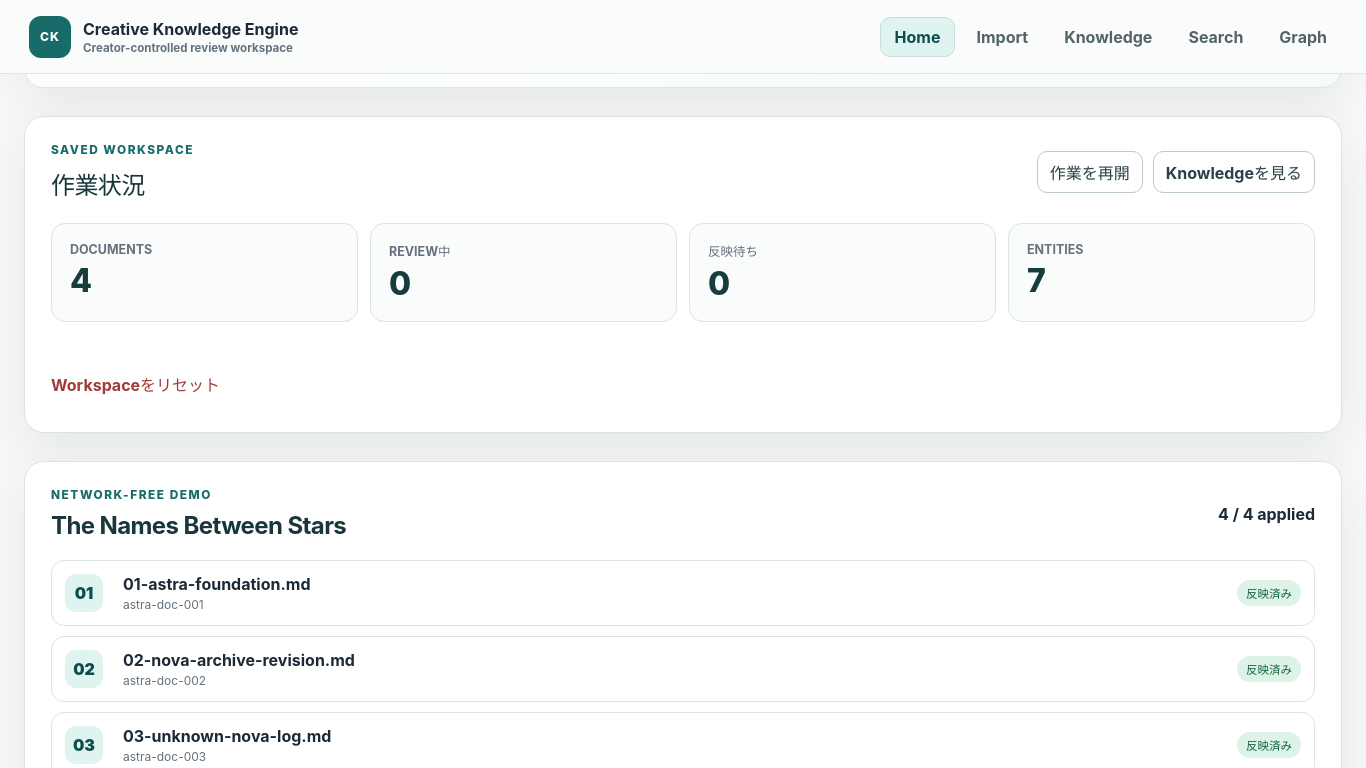
Test: App › replaces a saved workspace only after destructive reset confirmation
(page scrolled)
Click the button "Workspaceをリセット" at (143, 384), box [51,362,235,406]
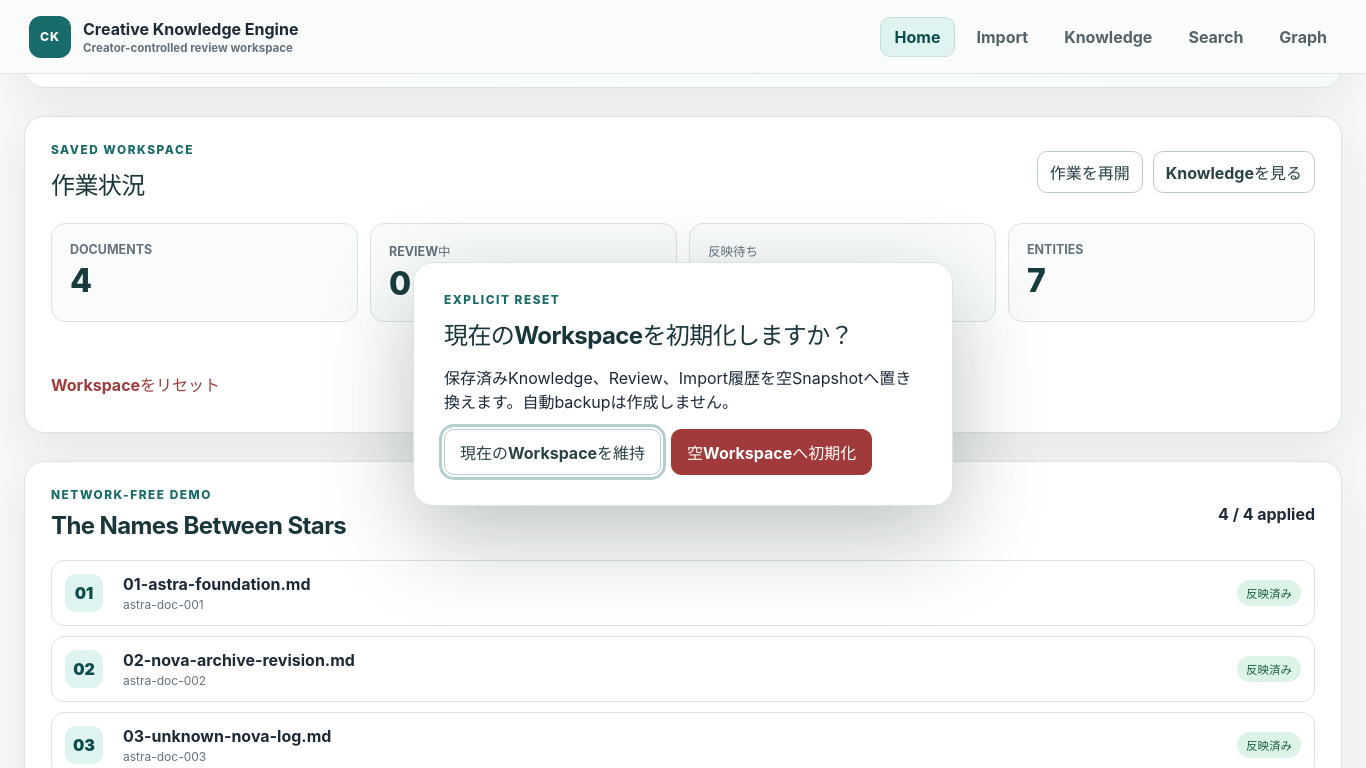
Click the button "空Workspaceへ初期化" at (772, 452), box [671,429,872,475]
(page scrolled)
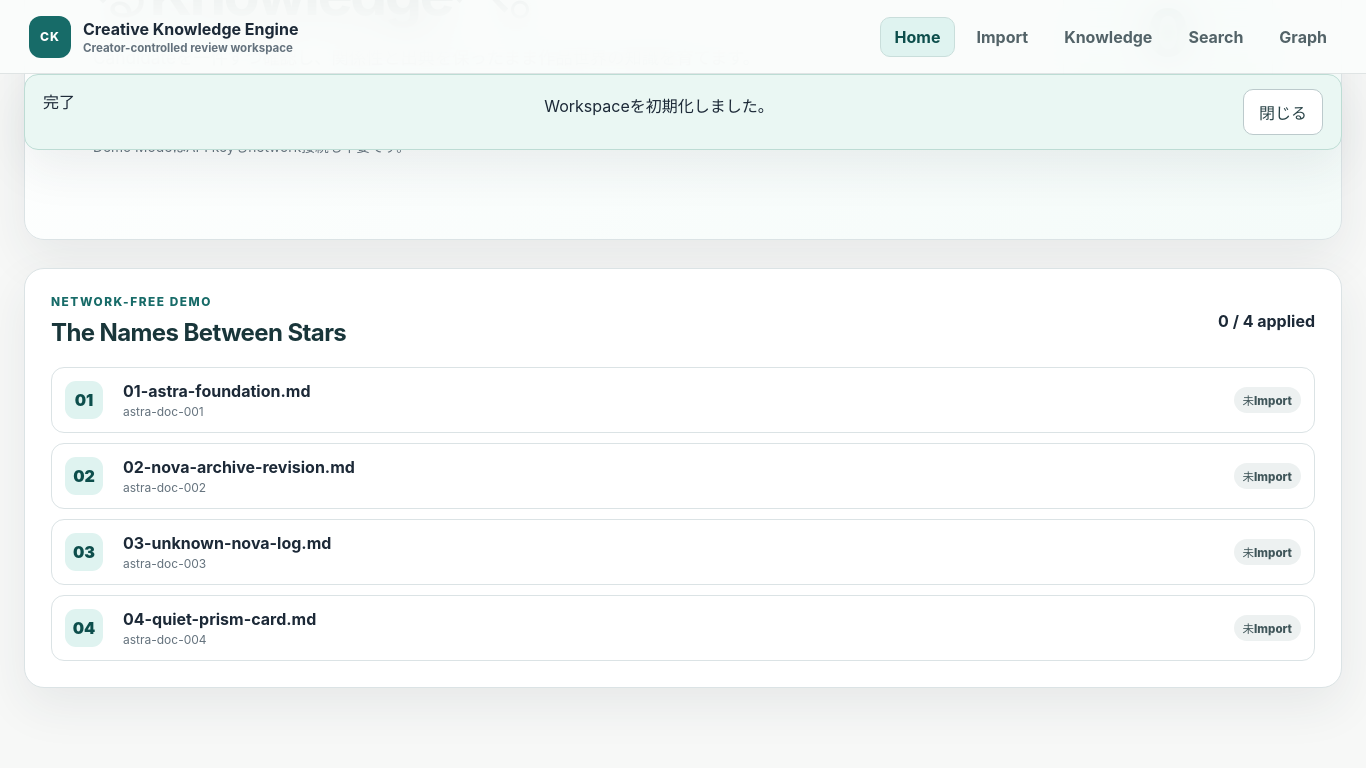
Check: the dialog is gone
Check: the button "Workspaceをリセット" is gone
